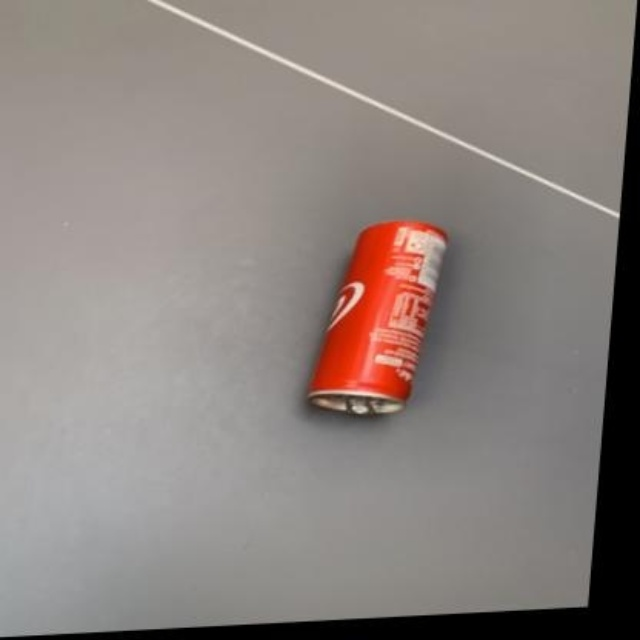trash: (308, 222, 446, 414)
